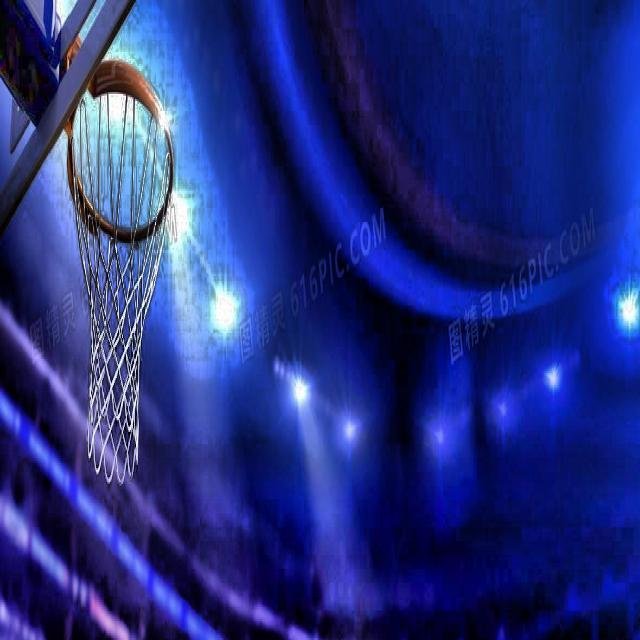rim: (68, 58, 175, 483)
